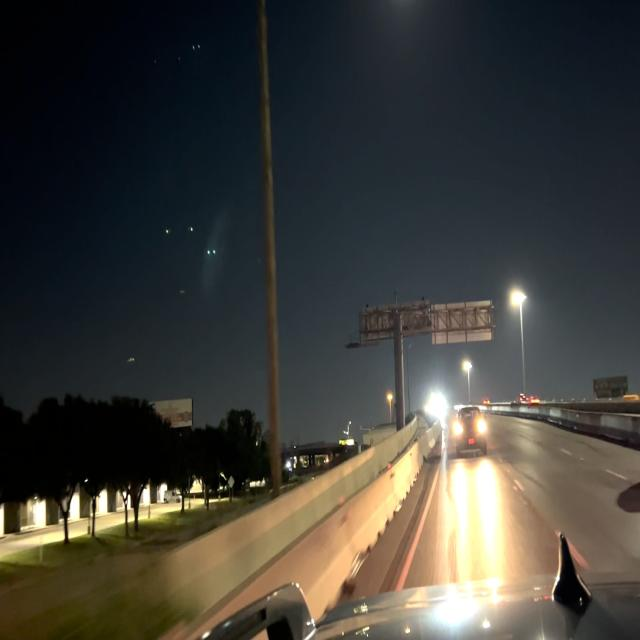back-of-sign: (429, 293, 495, 348)
